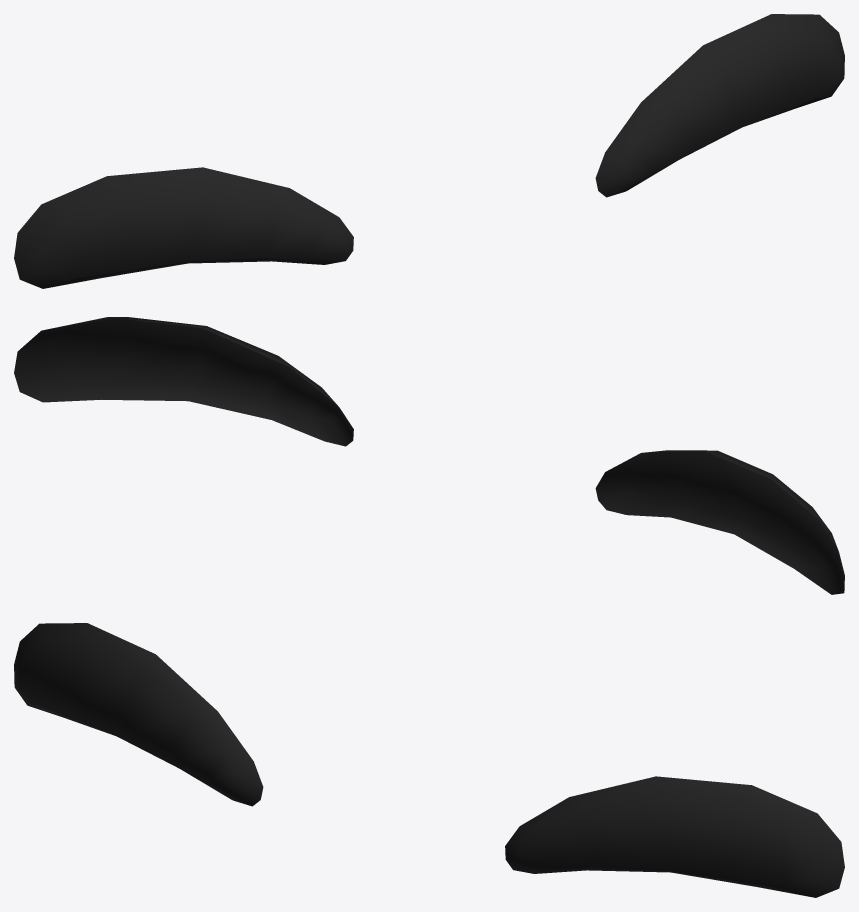
Rendered from eyebrow_2.fbx.
The picture shows the model from 3 angles, top to bottom: view 1: azimuth 30°, elevation 25°; view 2: azimuth 150°, elevation 25°; view 3: azimuth 330°, elevation 25°; orthographic projection.
Parts seen in each view (by area): view 1: eyebrow_2; view 2: eyebrow_2; view 3: eyebrow_2.
Part boxes in pixels (x1,y1,x2,y2): eyebrow_2: [14, 14, 844, 288]; eyebrow_2: [14, 317, 844, 594]; eyebrow_2: [14, 623, 844, 897].
Bounding box in the file's own units: 0.8359 × 0.103 × 0.095.
